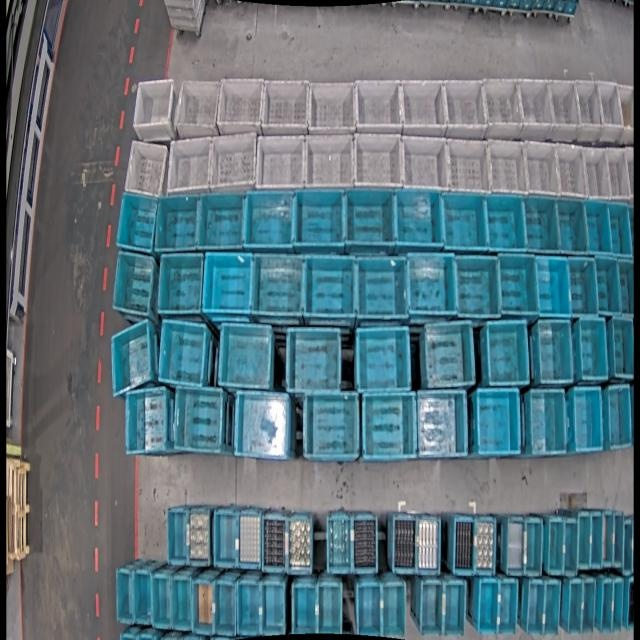Box: (216, 322, 274, 391), (355, 324, 412, 391), (233, 392, 289, 458), (422, 320, 474, 391), (363, 391, 416, 460), (303, 393, 358, 459), (174, 382, 225, 453), (286, 327, 340, 394), (157, 320, 209, 388), (110, 318, 153, 400), (251, 253, 305, 318), (155, 249, 204, 319), (123, 386, 171, 456), (355, 257, 410, 318), (302, 257, 357, 318), (201, 252, 254, 315), (345, 186, 395, 251), (418, 391, 467, 457), (293, 187, 345, 248), (152, 194, 202, 256), (409, 252, 456, 317), (165, 138, 214, 200), (453, 254, 500, 318), (484, 320, 529, 386), (112, 251, 156, 318), (210, 132, 256, 196), (394, 190, 443, 250), (245, 189, 294, 249), (198, 192, 247, 252), (477, 388, 520, 456), (256, 136, 306, 192), (216, 78, 265, 135), (115, 192, 159, 255), (355, 132, 403, 189), (443, 190, 488, 250), (174, 77, 219, 137), (497, 254, 539, 318), (123, 140, 168, 199), (306, 132, 353, 188), (262, 78, 308, 135), (308, 78, 356, 132), (404, 136, 448, 193), (401, 78, 445, 135), (444, 79, 487, 136), (528, 391, 565, 456), (356, 77, 402, 129), (135, 80, 174, 141), (484, 77, 522, 139), (536, 319, 572, 383), (448, 137, 489, 193), (487, 142, 527, 195), (487, 195, 525, 249), (537, 257, 570, 319), (577, 317, 608, 382), (523, 142, 561, 195), (524, 196, 559, 251), (572, 388, 602, 452), (549, 81, 580, 142), (520, 79, 551, 139), (556, 144, 588, 199), (557, 197, 588, 253), (606, 385, 632, 451), (577, 80, 604, 141), (569, 258, 598, 314), (213, 507, 238, 571), (585, 197, 613, 253), (352, 512, 377, 574), (287, 512, 312, 574), (188, 502, 212, 566), (598, 82, 623, 142), (416, 517, 441, 575), (392, 513, 417, 571), (327, 513, 351, 573), (604, 146, 630, 201), (261, 514, 285, 573), (453, 514, 476, 575), (260, 581, 285, 637), (583, 147, 611, 197), (238, 509, 261, 569), (316, 582, 343, 633), (596, 259, 621, 314), (382, 583, 406, 640), (167, 508, 190, 567), (420, 581, 445, 634), (612, 315, 633, 378), (475, 515, 497, 575), (237, 581, 260, 638), (357, 581, 381, 635), (522, 517, 543, 578), (214, 582, 236, 637), (192, 580, 214, 635), (292, 584, 316, 634), (478, 580, 500, 634), (444, 582, 466, 636), (610, 203, 632, 257), (504, 516, 524, 575), (498, 580, 518, 634), (542, 581, 561, 637), (172, 577, 192, 630), (562, 516, 578, 578), (527, 580, 545, 635), (114, 569, 132, 624), (134, 570, 152, 624), (152, 575, 170, 628), (567, 578, 584, 634), (580, 579, 596, 637), (576, 510, 591, 570), (618, 85, 633, 145), (618, 260, 634, 316), (547, 518, 562, 576), (620, 515, 633, 575), (600, 580, 614, 635), (610, 578, 623, 633), (600, 510, 612, 569), (590, 510, 601, 570), (611, 512, 623, 564), (625, 576, 634, 630)
